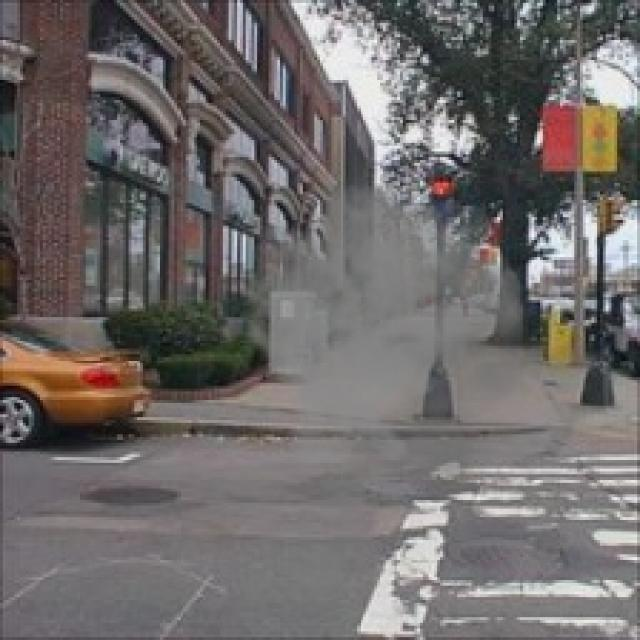smoke: (232, 160, 628, 503)
